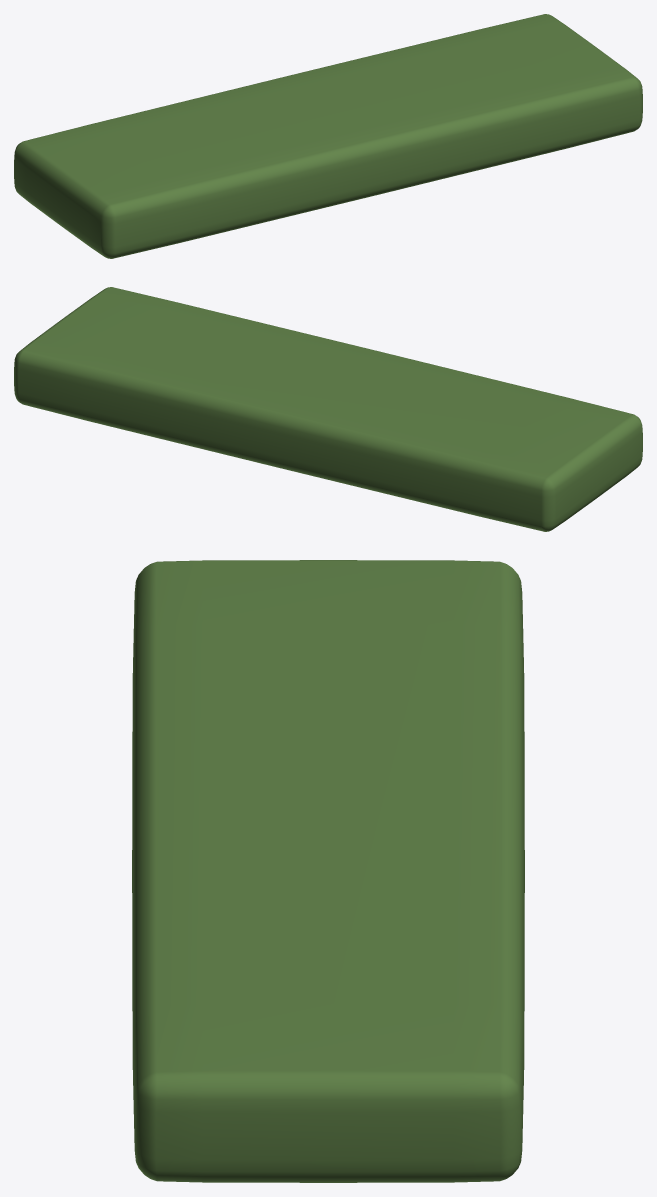
3 views of the same model, one above another, from view 1: azimuth 30°, elevation 25°; view 2: azimuth 150°, elevation 25°; view 3: azimuth 270°, elevation 25° (orthographic). The views are drawn at different scales.
Visible parts, largest first — view 1: Box1_High; view 2: Box1_High; view 3: Box1_High.
Part boxes in pixels (box(x1,y1,x2,y2)): Box1_High: box(14, 14, 642, 258); Box1_High: box(14, 287, 642, 531); Box1_High: box(132, 560, 524, 1182).
Bounding box in the file's own units: 2.69 × 0.2732 × 0.8406.
